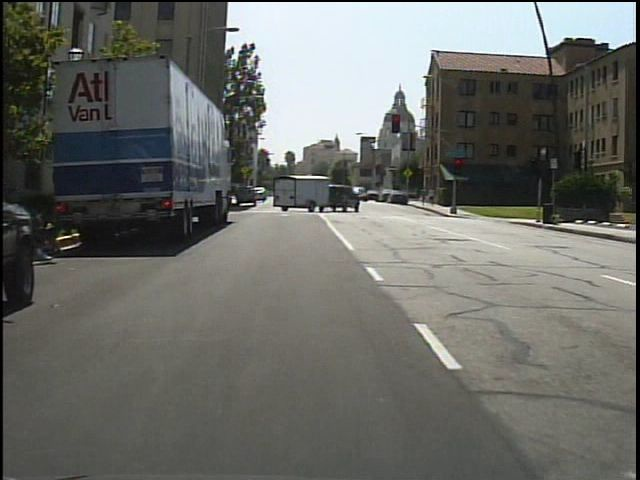person: (429, 184, 441, 210), (420, 185, 430, 208)
